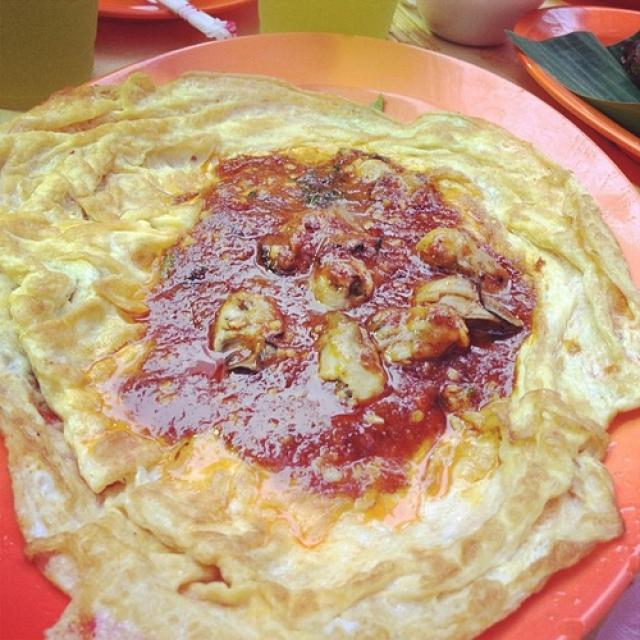熟制海鲜: (5, 18, 634, 628)
